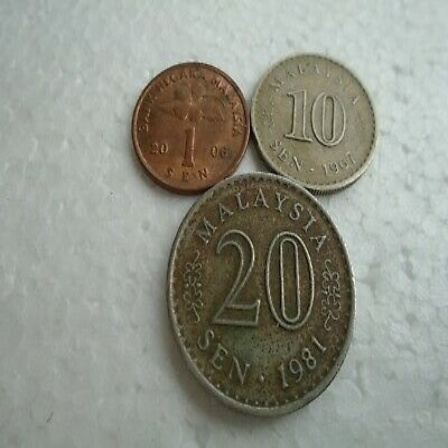10: (250, 48, 379, 197)
1c: (129, 60, 253, 194)
20: (166, 170, 358, 418)
